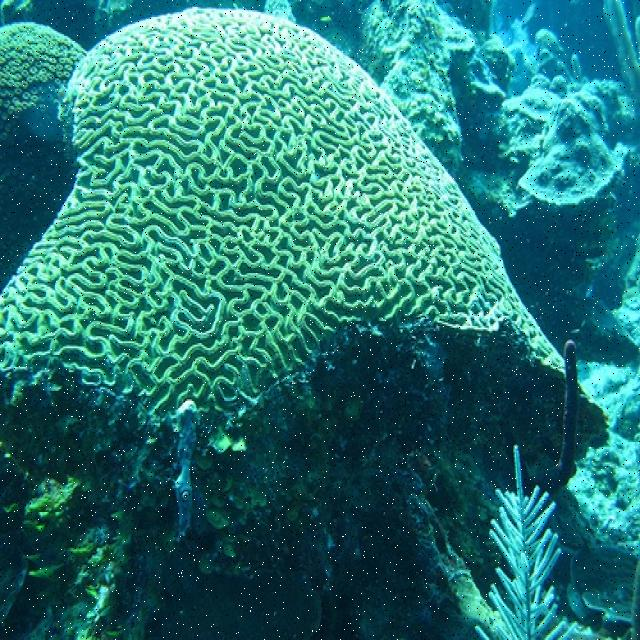aquatic plants: (489, 443, 580, 638)
reefs: (0, 4, 569, 433)
